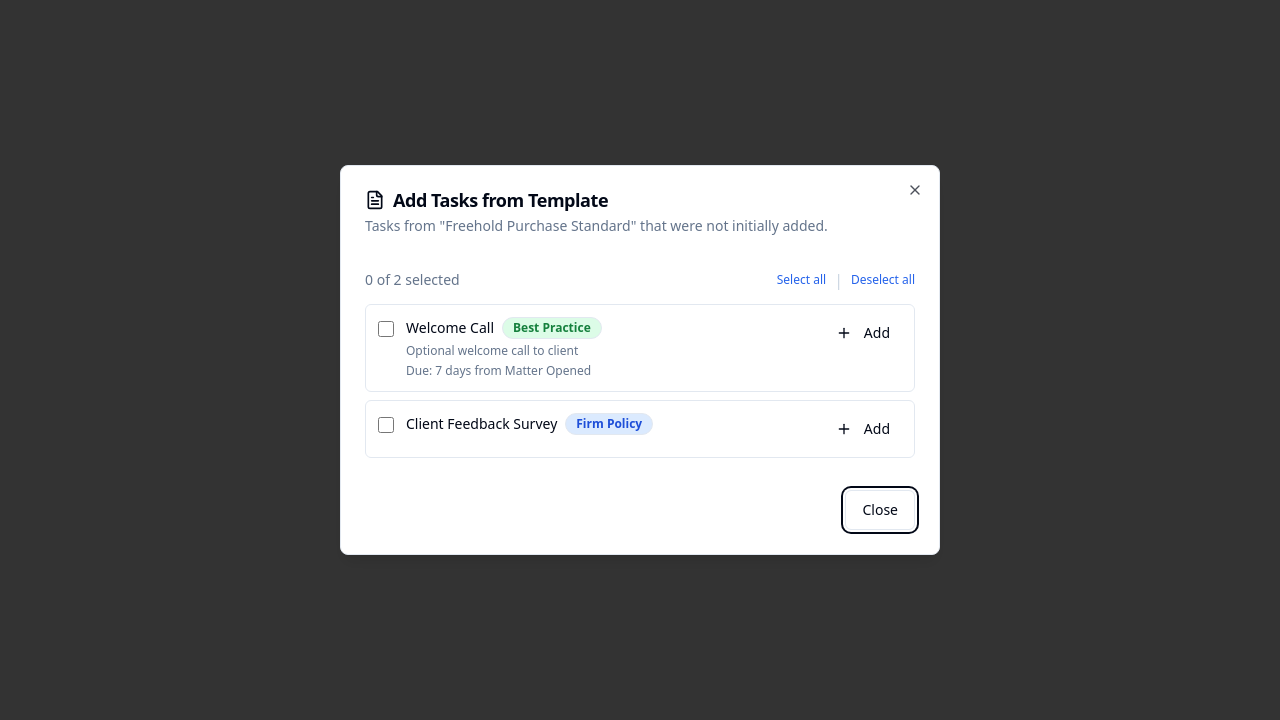
Test: SkippedTasksDialog › Selection behavior › select all selects all available items
The width and height of the screenshot is (1280, 720).
Step 1. Click the button "Select all" → click(802, 280), box [777,268,826,292]
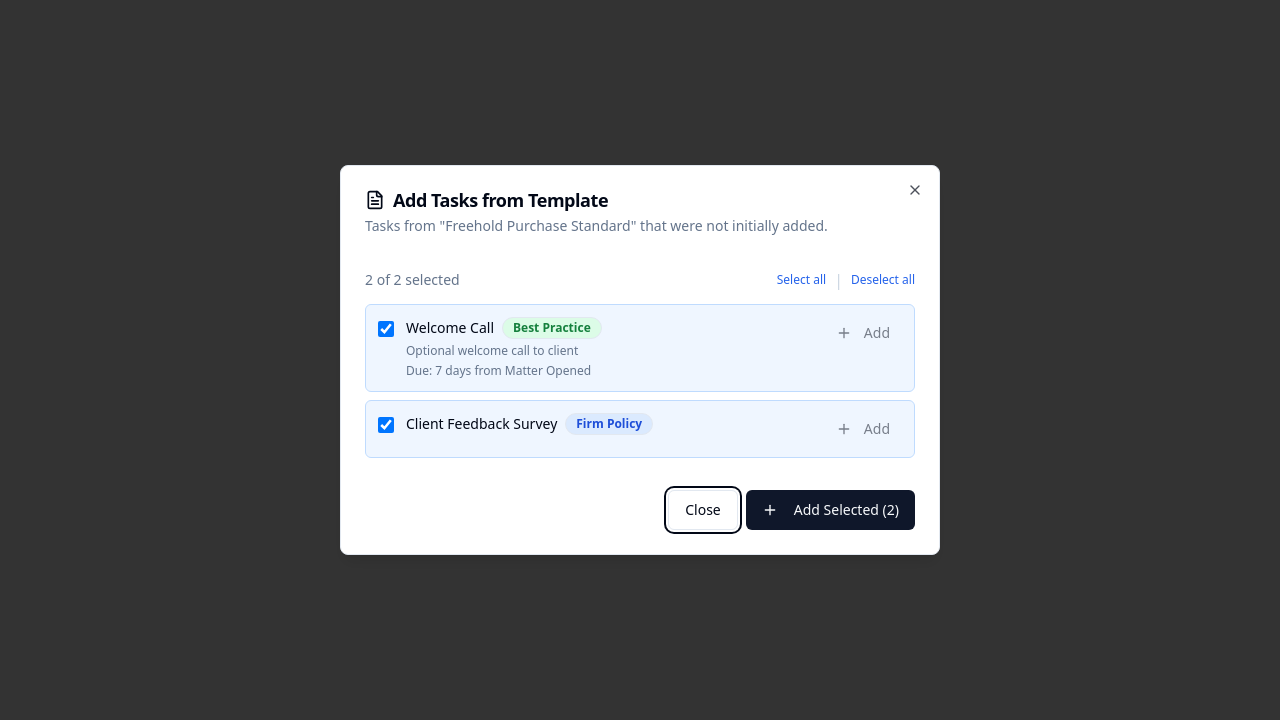
Expected: the text "2 of 2 selected" is shown, [365,270,460,290]
